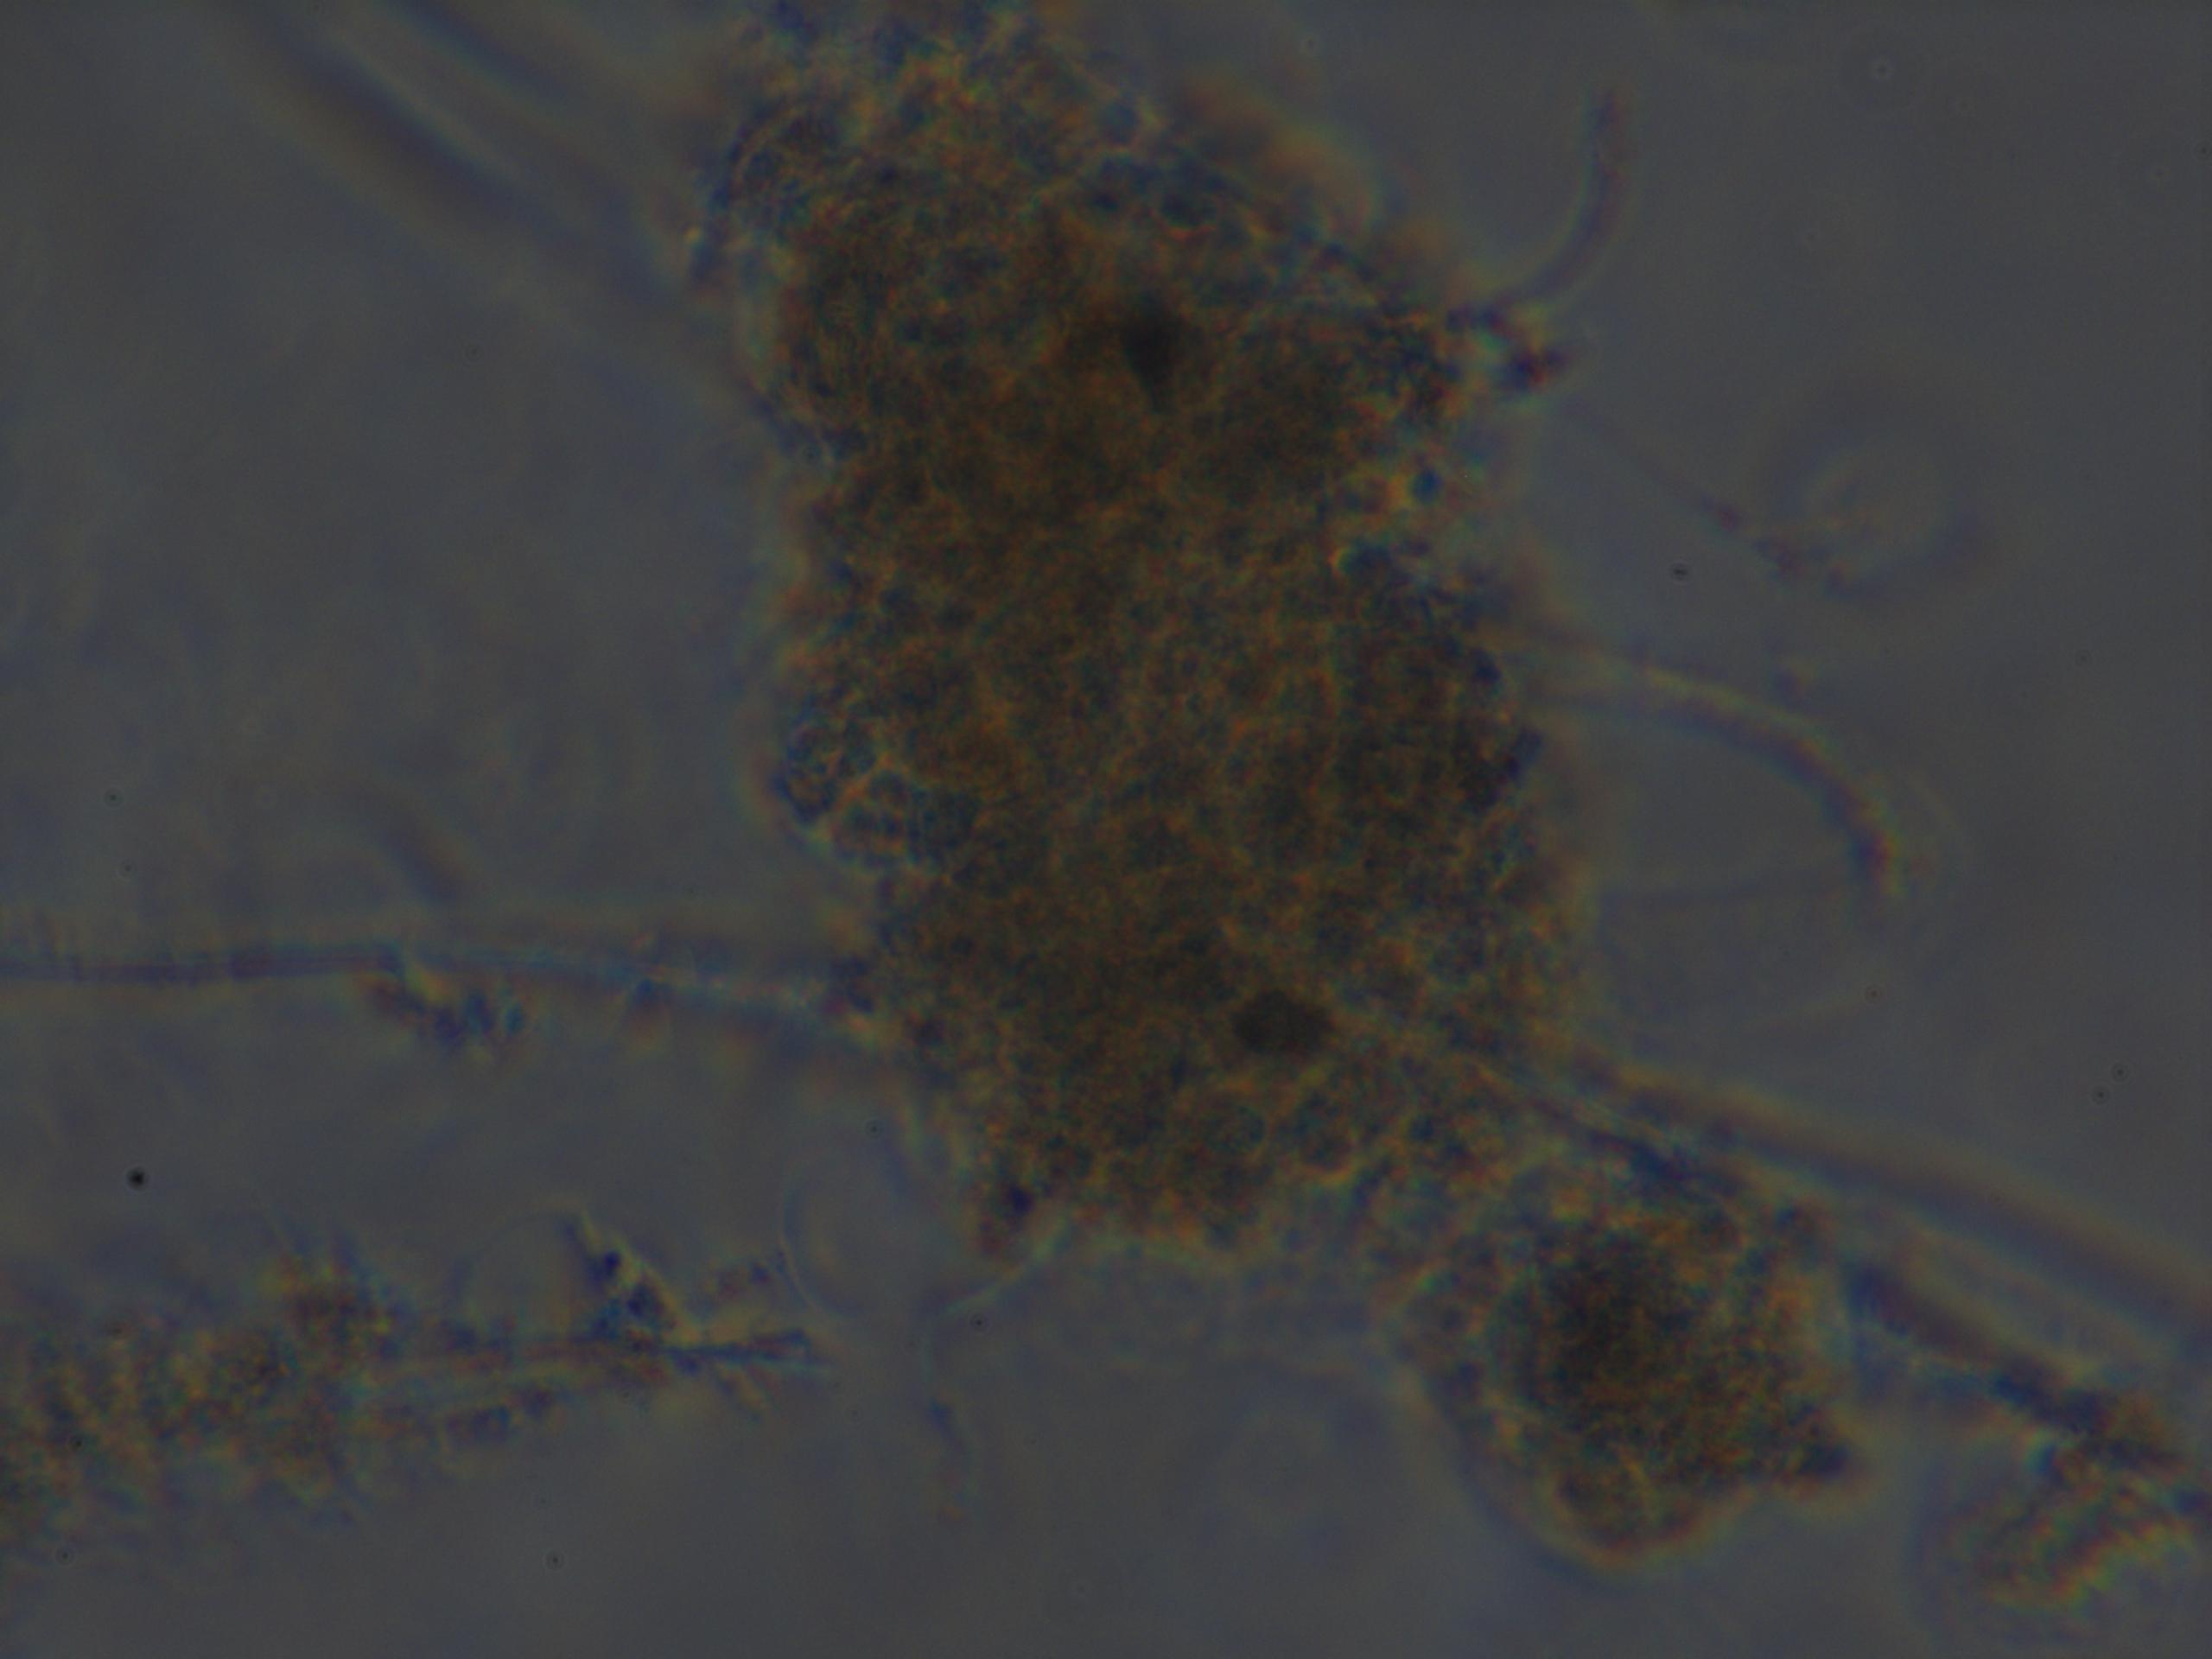spherical_floc: (704, 26, 1592, 1276)
